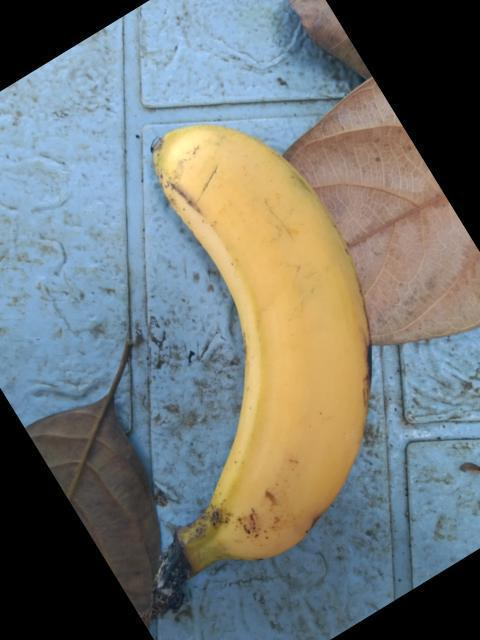freshripe: (125, 121, 424, 607)
